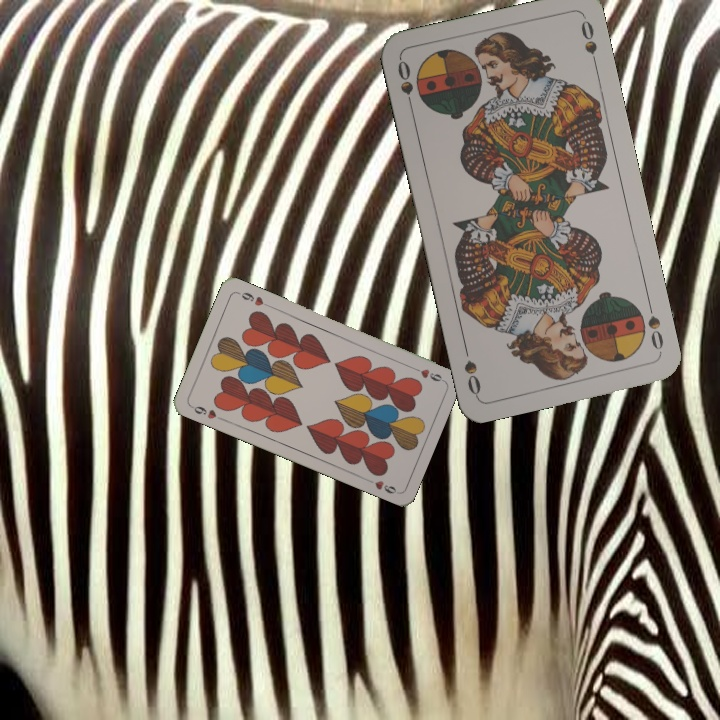H9: (187, 401, 226, 423), (407, 362, 446, 384)
SO: (393, 56, 417, 115), (643, 297, 666, 356)
